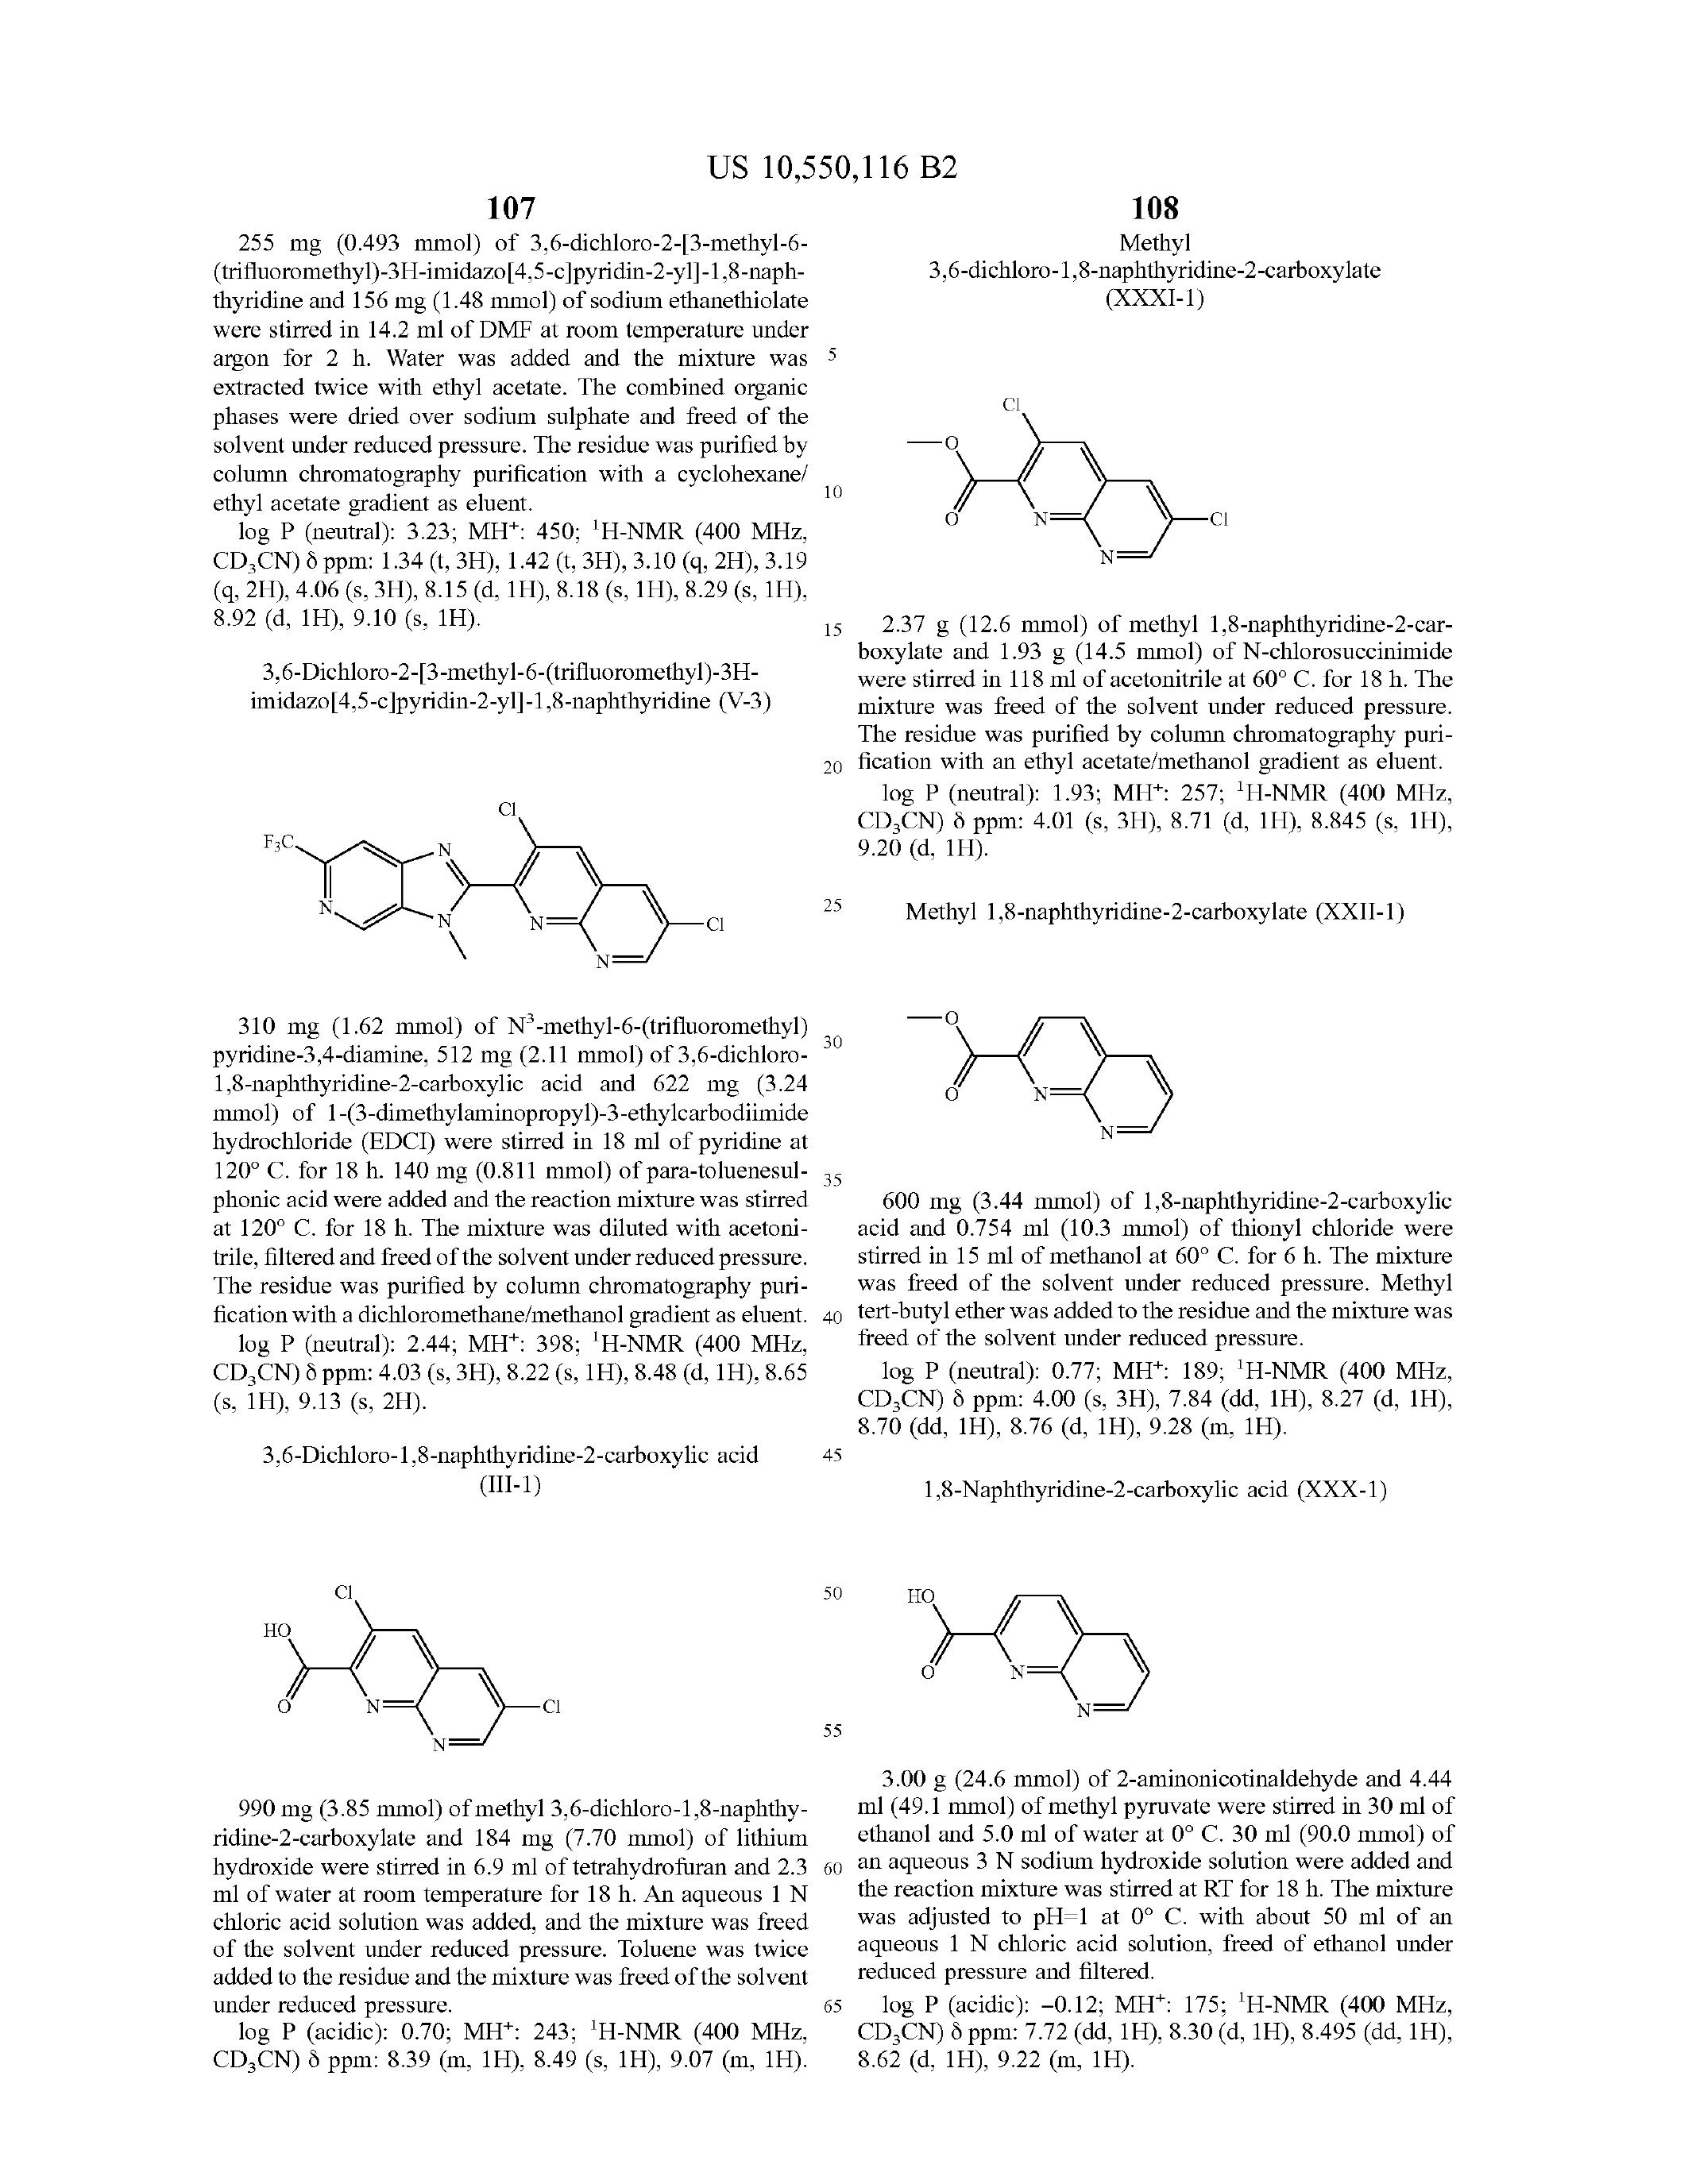intermediates: (215, 1514, 622, 1780), (888, 337, 1270, 589), (881, 1496, 1245, 1759), (920, 963, 1229, 1197)
relevant-structures: (206, 734, 750, 991)
